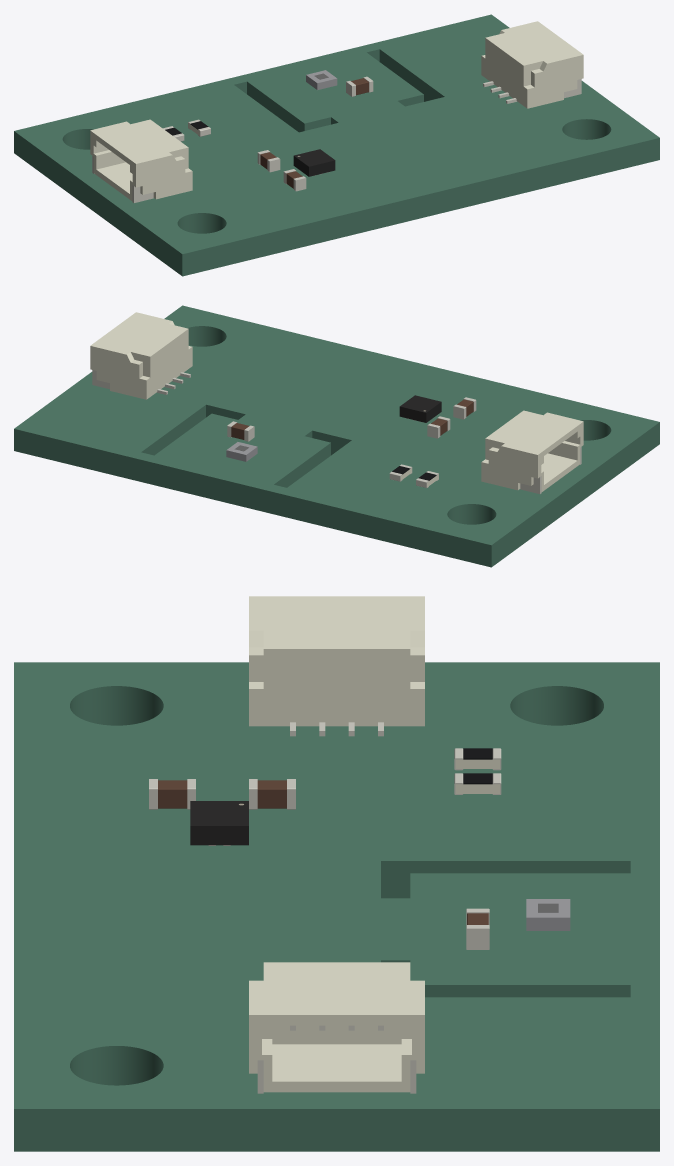
Rendered from modulo_meteo.glb.
3 renders of one model, top to bottom at view 1: azimuth 30°, elevation 25°; view 2: azimuth 150°, elevation 25°; view 3: azimuth 270°, elevation 25°, orthographic. The views are drawn at different scales.
Parts seen in each view (by area): view 1: =>[0:1:1:13], =>[0:1:1:5] (×2), =>[0:1:1:7], =>[0:1:1:3] (×2), =>[0:1:1:11]; view 2: =>[0:1:1:13], =>[0:1:1:5] (×2), =>[0:1:1:3] (×3), =>[0:1:1:7], =>[0:1:1:11]; view 3: =>[0:1:1:13], =>[0:1:1:5] (×2), =>[0:1:1:3] (×3), =>[0:1:1:7], =>[0:1:1:9] (×2), =>[0:1:1:11].
Boxes of the visible parts, x1=… form: =>[0:1:1:13]: x1=14, y1=14, x2=659, y2=276; =>[0:1:1:5] (×2): x1=90, y1=21, x2=583, y2=202; =>[0:1:1:7]: x1=293, y1=149, x2=335, y2=176; =>[0:1:1:3] (×2): x1=283, y1=76, x2=373, y2=191; =>[0:1:1:11]: x1=306, y1=70, x2=337, y2=90; =>[0:1:1:13]: x1=14, y1=305, x2=659, y2=567; =>[0:1:1:5] (×2): x1=90, y1=312, x2=583, y2=493; =>[0:1:1:3] (×3): x1=227, y1=397, x2=476, y2=441; =>[0:1:1:7]: x1=399, y1=395, x2=441, y2=422; =>[0:1:1:11]: x1=226, y1=442, x2=257, y2=461; =>[0:1:1:13]: x1=14, y1=662, x2=659, y2=1151; =>[0:1:1:5] (×2): x1=249, y1=596, x2=424, y2=1093; =>[0:1:1:3] (×3): x1=149, y1=779, x2=489, y2=949; =>[0:1:1:7]: x1=190, y1=801, x2=248, y2=845; =>[0:1:1:9] (×2): x1=454, y1=748, x2=501, y2=794; =>[0:1:1:11]: x1=526, y1=899, x2=570, y2=930.
Bounding box in the file's own units: 0.036 × 0.00461 × 0.022.
